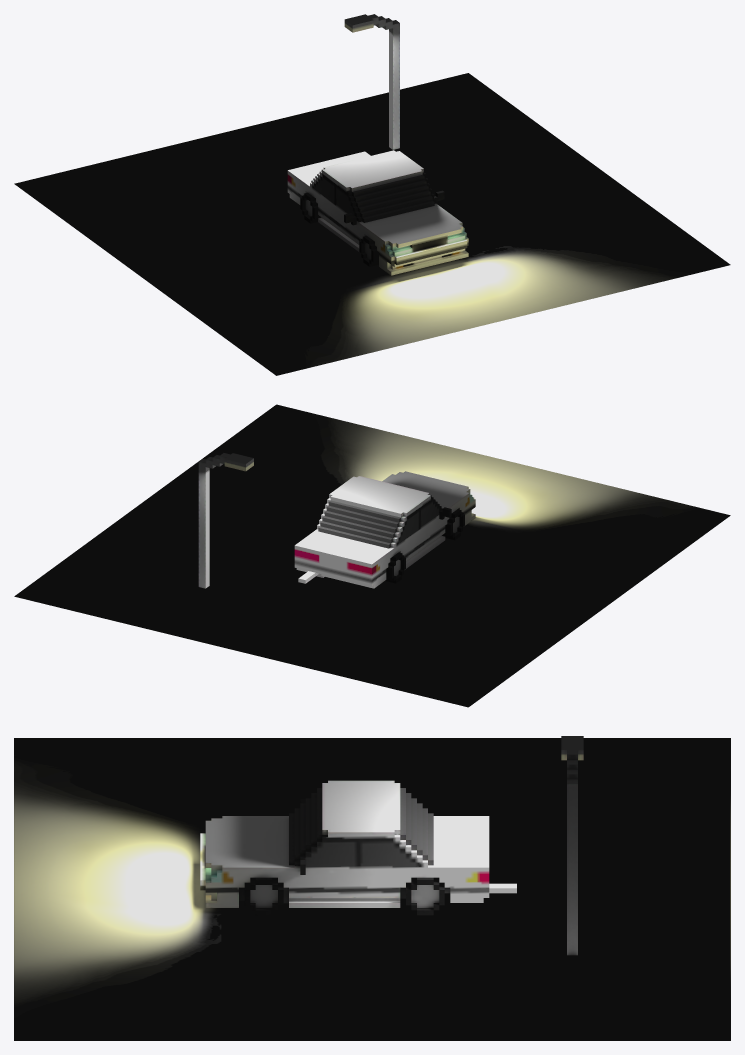
The model's file is mark2-baked-transparent-2.glb.
3 renders of one model, top to bottom at view 1: azimuth 30°, elevation 25°; view 2: azimuth 150°, elevation 25°; view 3: azimuth 270°, elevation 25°, orthographic. The views are drawn at different scales.
Visible parts, largest first — view 1: Plane, mark2; view 2: Plane, mark2; view 3: Plane, mark2.
Part boxes in pixels (x1,y1,x2,y2): Plane: (14, 73, 730, 375); mark2: (287, 14, 468, 275); Plane: (14, 404, 730, 707); mark2: (198, 453, 475, 588); Plane: (14, 738, 730, 1040); mark2: (200, 736, 583, 955).
Bounding box in the file's own units: 12.9 × 3.7 × 12.9.
Materials: 2 (2 with a texture image).
